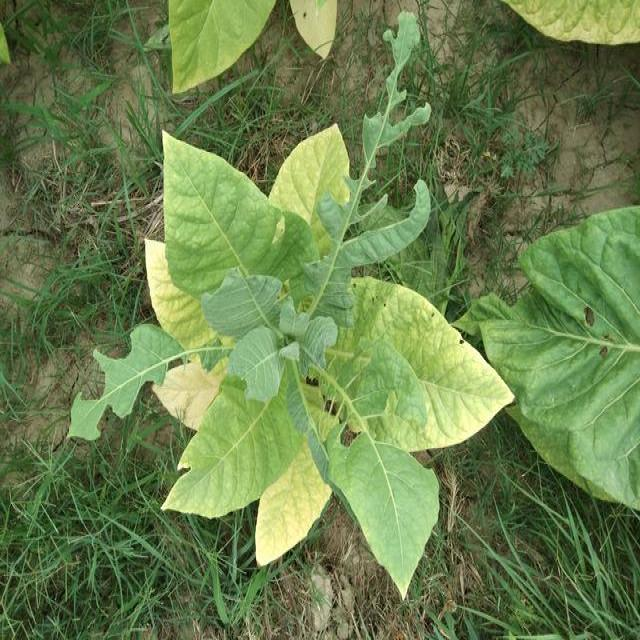crop: (138, 119, 521, 602)
